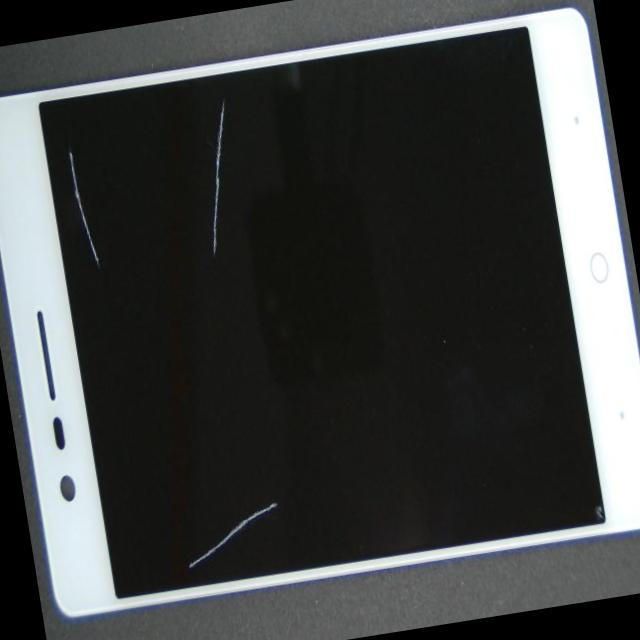scratch: (181, 94, 257, 261), (176, 495, 289, 577), (60, 139, 106, 287)
